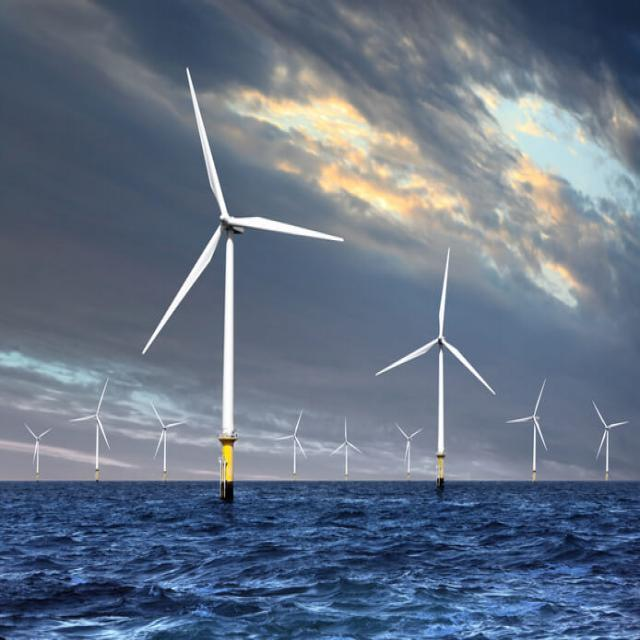solid-blade: (142, 225, 222, 353), (188, 71, 228, 212), (442, 339, 495, 395), (228, 216, 344, 241), (375, 339, 439, 374)
wind-turbine: (142, 68, 344, 501), (376, 248, 495, 488), (506, 379, 548, 482), (592, 400, 629, 481)
